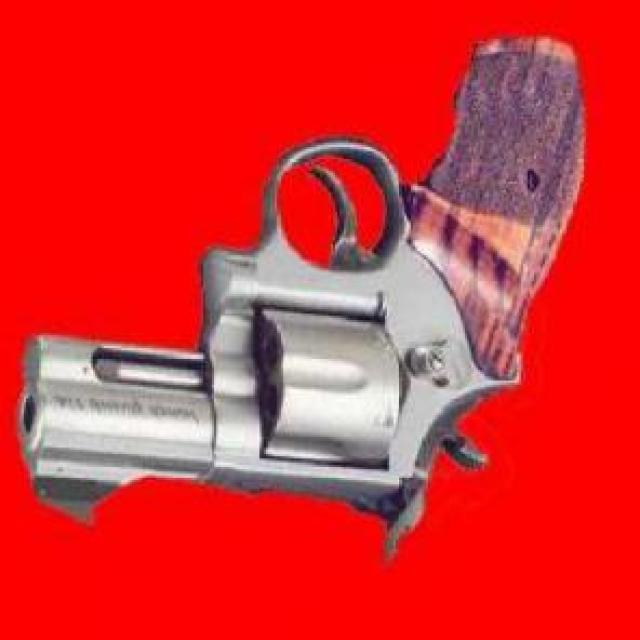pistol: (18, 31, 590, 524)
